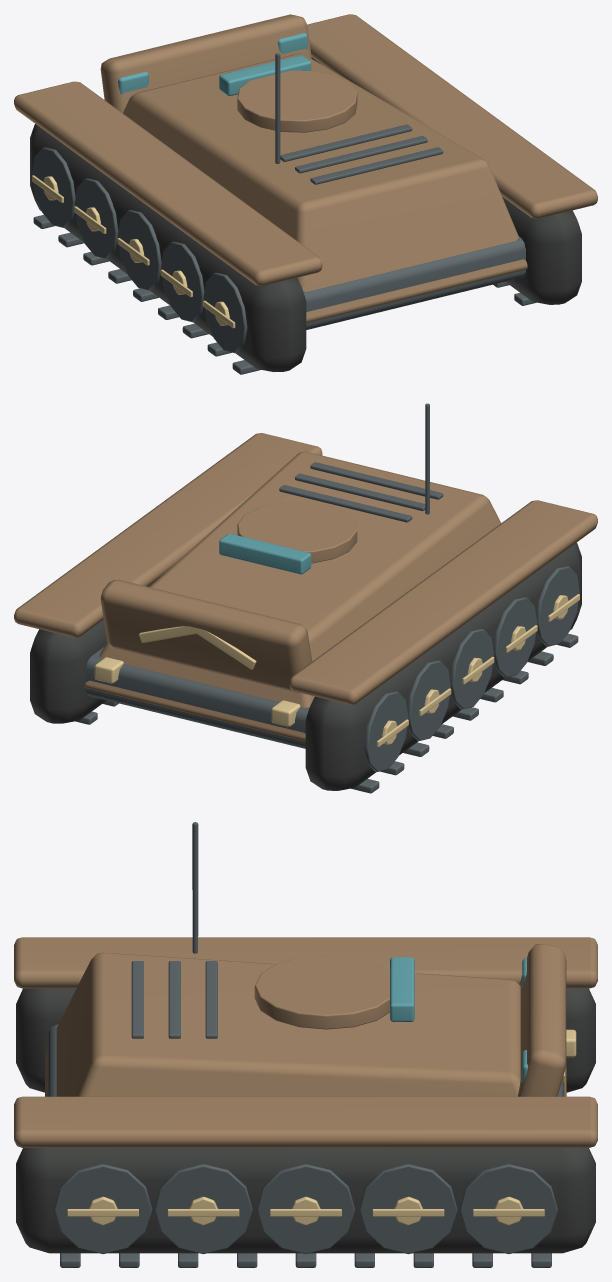
The model's file is STV-E01.fbx.
3 renders of one model, top to bottom at view 1: azimuth 30°, elevation 25°; view 2: azimuth 150°, elevation 25°; view 3: azimuth 270°, elevation 25°, orthographic. The views are drawn at different scales.
Visible parts, largest first — view 1: STV-E01_EnemyArmor, STV-E01_EnemyTrack, STV-E01_EnemyGunmetal, STV-E01_EnemyOptic, Wheel_-1_0, Wheel_-1_3, Wheel_-1_2, Wheel_-1_4, Wheel_-1_1; view 2: STV-E01_EnemyArmor, STV-E01_EnemyTrack, STV-E01_EnemyGunmetal, STV-E01_EnemyMark, Wheel_-1_4, Wheel_-1_1, Wheel_-1_2, Wheel_-1_0, Wheel_-1_3, STV-E01_EnemyOptic; view 3: STV-E01_EnemyArmor, STV-E01_EnemyTrack, STV-E01_EnemyGunmetal, Wheel_1_0, Wheel_1_1, Wheel_1_3, Wheel_1_4, Wheel_1_2, STV-E01_EnemyOptic, WheelSpoke.006, WheelSpoke.008.
Part boxes in pixels (x1=…): STV-E01_EnemyArmor: x1=14, y1=14, x2=597, y2=322; STV-E01_EnemyTrack: x1=30, y1=57, x2=581, y2=371; STV-E01_EnemyGunmetal: x1=33, y1=53, x2=536, y2=374; STV-E01_EnemyOptic: x1=118, y1=33, x2=311, y2=95; Wheel_-1_0: x1=203, y1=272, x2=247, y2=353; Wheel_-1_3: x1=74, y1=178, x2=118, y2=258; Wheel_-1_2: x1=117, y1=210, x2=161, y2=290; Wheel_-1_4: x1=32, y1=147, x2=75, y2=227; Wheel_-1_1: x1=161, y1=241, x2=204, y2=322; STV-E01_EnemyArmor: x1=14, y1=433, x2=597, y2=741; STV-E01_EnemyTrack: x1=30, y1=542, x2=581, y2=790; STV-E01_EnemyGunmetal: x1=75, y1=403, x2=578, y2=793; STV-E01_EnemyMark: x1=94, y1=626, x2=300, y2=726; Wheel_-1_4: x1=364, y1=691, x2=408, y2=771; Wheel_-1_1: x1=493, y1=597, x2=537, y2=677; Wheel_-1_2: x1=450, y1=628, x2=494, y2=709; Wheel_-1_0: x1=536, y1=566, x2=579, y2=646; Wheel_-1_3: x1=407, y1=660, x2=450, y2=740; STV-E01_EnemyOptic: x1=219, y1=533, x2=311, y2=574; STV-E01_EnemyArmor: x1=14, y1=937, x2=597, y2=1147; STV-E01_EnemyTrack: x1=16, y1=988, x2=595, y2=1253; STV-E01_EnemyGunmetal: x1=47, y1=822, x2=564, y2=1267; Wheel_1_0: x1=54, y1=1164, x2=152, y2=1253; Wheel_1_1: x1=154, y1=1164, x2=252, y2=1254; Wheel_1_3: x1=359, y1=1164, x2=457, y2=1254; Wheel_1_4: x1=459, y1=1164, x2=557, y2=1253; Wheel_1_2: x1=256, y1=1164, x2=355, y2=1253; STV-E01_EnemyOptic: x1=390, y1=957, x2=528, y2=1082; WheelSpoke.006: x1=167, y1=1209, x2=239, y2=1216; WheelSpoke.008: x1=372, y1=1209, x2=444, y2=1216.
Size of the model in its own units: 232 by 164 by 285.
